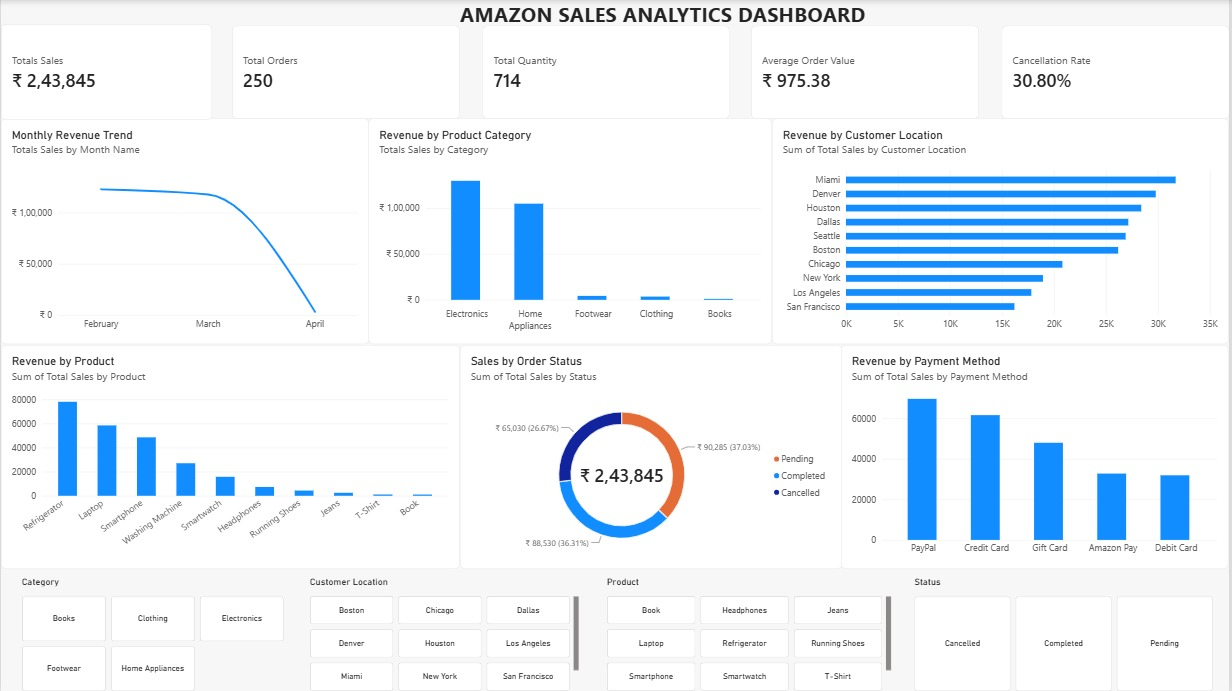

What the dashboard file says about the page in this screenshot:
{"tool":"powerbi","page":{"name":"Page 1","canvas":[1920,1080],"ordinal":0},"visuals":[{"type":"lineChart","title":"Monthly Revenue Trend","fields":{"Y":["DataTable.Totals Sales"],"Category":["DataTable.Month Name"]},"box":[0,186.1,575,352.8],"z":0},{"type":"lineClusteredColumnComboChart","title":"Revenue by Product Category","fields":{"Category":["Amazon_Sales_Data_2025_Cleaned.Category"],"Y":["DataTable.Totals Sales"]},"box":[575,186.1,630.6,352.8],"z":1000},{"type":"lineClusteredColumnComboChart","title":"Revenue by Product","fields":{"Category":["Amazon_Sales_Data_2025_Cleaned.Product"],"Y":["Sum(Amazon_Sales_Data_2025_Cleaned.Total Sales)"]},"box":[0,538.9,716.7,350],"z":2000},{"type":"donutChart","title":"Sales by Order Status","fields":{"Y":["Sum(Amazon_Sales_Data_2025_Cleaned.Total Sales)"],"Category":["Amazon_Sales_Data_2025_Cleaned.Status"]},"box":[716.7,538.9,597.2,350],"z":3000},{"type":"clusteredBarChart","title":"Revenue by Customer Location","fields":{"Category":["Amazon_Sales_Data_2025_Cleaned.Customer Location"],"Y":["Sum(Amazon_Sales_Data_2025_Cleaned.Total Sales)"]},"box":[1205.6,186.1,713.9,352.8],"z":4000},{"type":"lineClusteredColumnComboChart","title":"Revenue by Payment Method","fields":{"Category":["Amazon_Sales_Data_2025_Cleaned.Payment Method"],"Y":["Sum(Amazon_Sales_Data_2025_Cleaned.Total Sales)"]},"box":[1313.9,538.9,605.6,350],"z":5000},{"type":"textbox","box":[716.7,0,636.1,58.3],"z":6000},{"type":"advancedSlicerVisual","fields":{"Values":["Amazon_Sales_Data_2025_Cleaned.Category"]},"box":[32,900,410,180],"z":7000},{"type":"advancedSlicerVisual","fields":{"Values":["Amazon_Sales_Data_2025_Cleaned.Customer Location"]},"box":[484,900,420,180],"z":8000},{"type":"advancedSlicerVisual","fields":{"Values":["Amazon_Sales_Data_2025_Cleaned.Product"]},"box":[946,900,444,180],"z":9000},{"type":"advancedSlicerVisual","fields":{"Values":["Amazon_Sales_Data_2025_Cleaned.Status"]},"box":[1428,900,466,180],"z":10000},{"type":"cardVisual","fields":{"Data":["DataTable.Totals Sales"]},"box":[0,36.7,330,150],"z":11000},{"type":"cardVisual","fields":{"Data":["DataTable.Total Orders"]},"box":[360,40,356.7,146.7],"z":12000},{"type":"cardVisual","fields":{"Data":["DataTable.Total Quantity"]},"box":[753.3,40,386.7,146.7],"z":13000},{"type":"cardVisual","fields":{"Data":["DataTable.Average Order Value"]},"box":[1173.3,40,356.7,146.7],"z":14000},{"type":"cardVisual","fields":{"Data":["DataTable.Cancellation Rate"]},"box":[1563.3,40,356.7,146.7],"z":15000}]}

Visuals, with their boxes in screenshot pixels (x1, y1, x2, y2), scaled from the page's 1920x1080 canvas onto the 1232x691 screenshot:
"Monthly Revenue Trend" lineChart: x1=0, y1=119, x2=369, y2=345
"Revenue by Product Category" lineClusteredColumnComboChart: x1=369, y1=119, x2=774, y2=345
"Revenue by Product" lineClusteredColumnComboChart: x1=0, y1=345, x2=460, y2=569
"Sales by Order Status" donutChart: x1=460, y1=345, x2=843, y2=569
"Revenue by Customer Location" clusteredBarChart: x1=774, y1=119, x2=1231, y2=345
"Revenue by Payment Method" lineClusteredColumnComboChart: x1=843, y1=345, x2=1231, y2=569
textbox: x1=460, y1=0, x2=868, y2=37
advancedSlicerVisual - Amazon_Sales_Data_2025_Cleaned.Category: x1=21, y1=576, x2=284, y2=690
advancedSlicerVisual - Amazon_Sales_Data_2025_Cleaned.Customer Location: x1=311, y1=576, x2=580, y2=690
advancedSlicerVisual - Amazon_Sales_Data_2025_Cleaned.Product: x1=607, y1=576, x2=892, y2=690
advancedSlicerVisual - Amazon_Sales_Data_2025_Cleaned.Status: x1=916, y1=576, x2=1215, y2=690
cardVisual - DataTable.Totals Sales: x1=0, y1=23, x2=212, y2=119
cardVisual - DataTable.Total Orders: x1=231, y1=26, x2=460, y2=119
cardVisual - DataTable.Total Quantity: x1=483, y1=26, x2=732, y2=119
cardVisual - DataTable.Average Order Value: x1=753, y1=26, x2=982, y2=119
cardVisual - DataTable.Cancellation Rate: x1=1003, y1=26, x2=1231, y2=119
